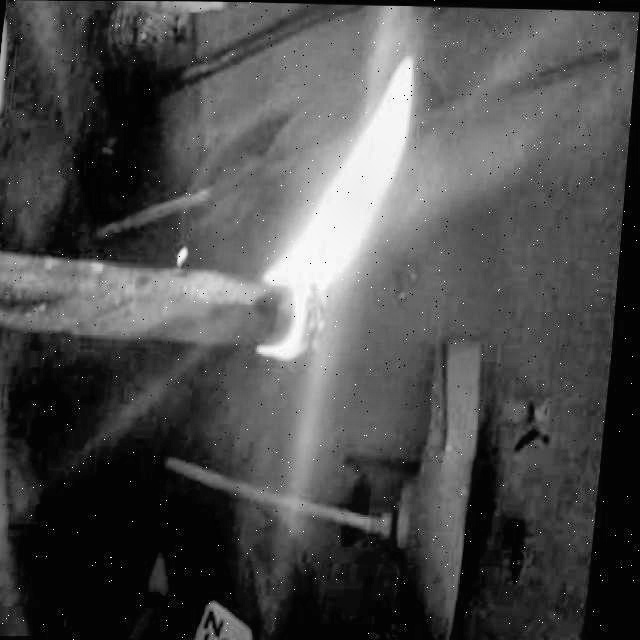Fire: (257, 26, 450, 358)
